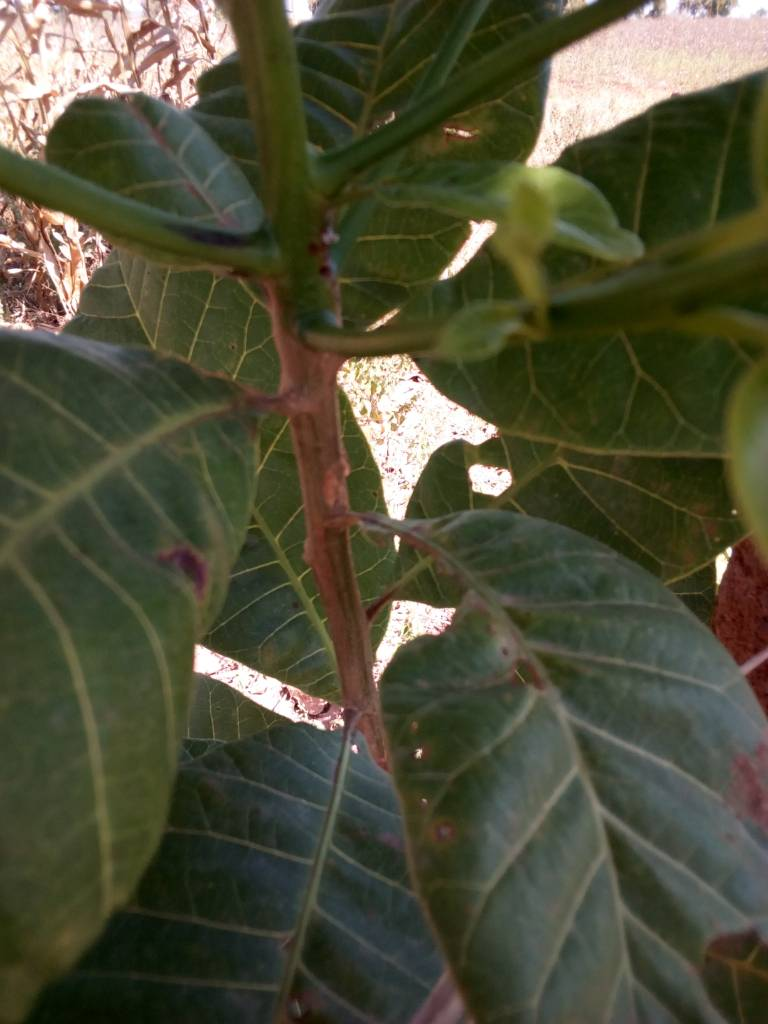Anoplocnemis curvipes: (415, 549, 716, 960)
